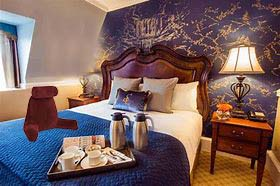copymove: (133, 110, 155, 153)
removal: (58, 32, 93, 73)
spliced: (22, 86, 80, 139)
